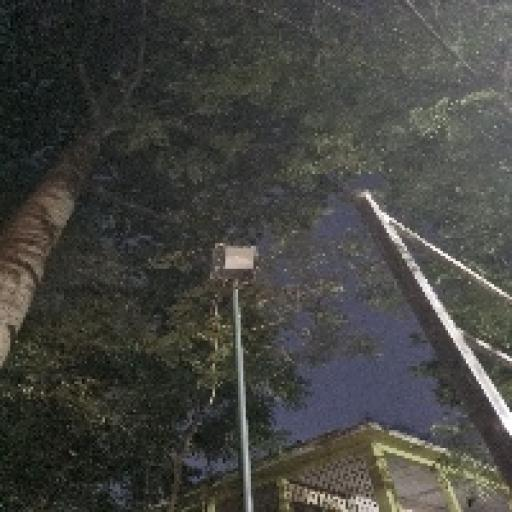Not Working: (200, 230, 271, 296)
